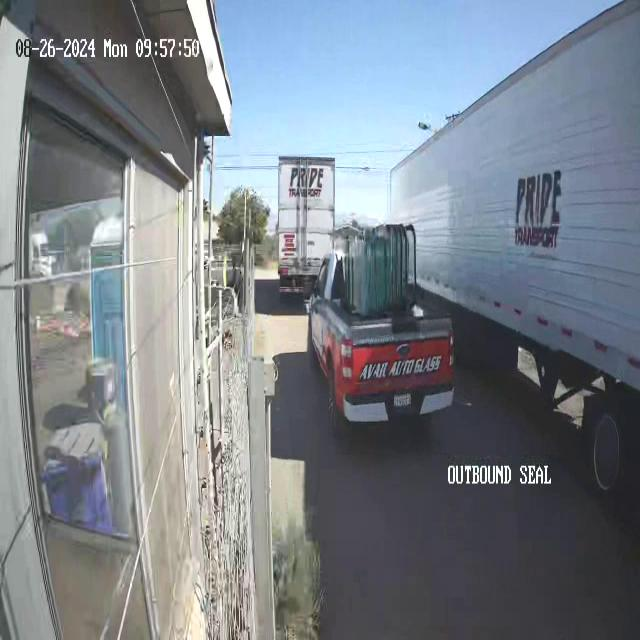TRUCK_CONTAINER: (388, 0, 640, 384), (277, 153, 336, 298)
